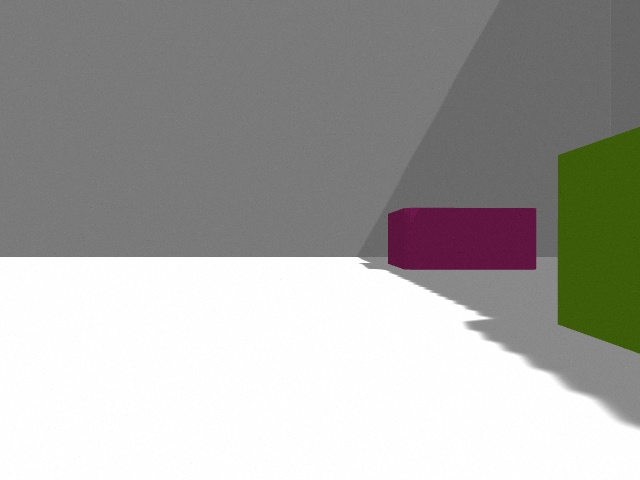green_drop_zone: (558, 127, 640, 354)
red_drop_zone: (388, 208, 536, 270)
